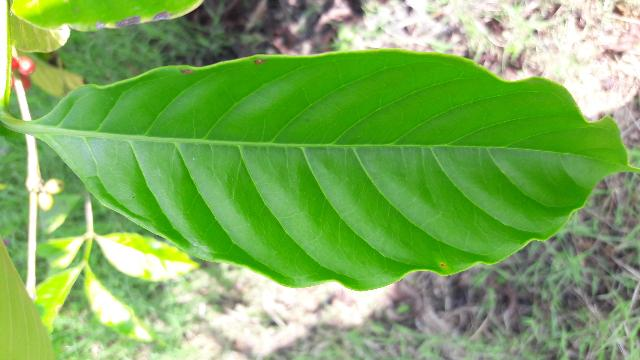healthy: (36, 53, 615, 281)
